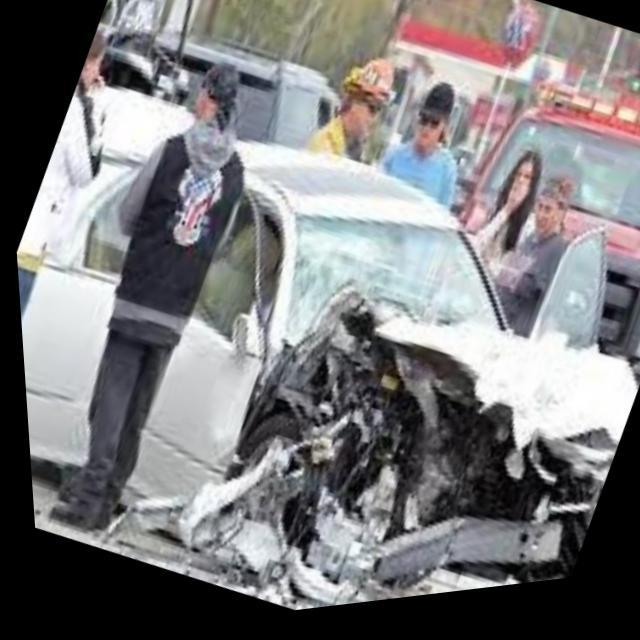crash: (189, 286, 627, 614)
